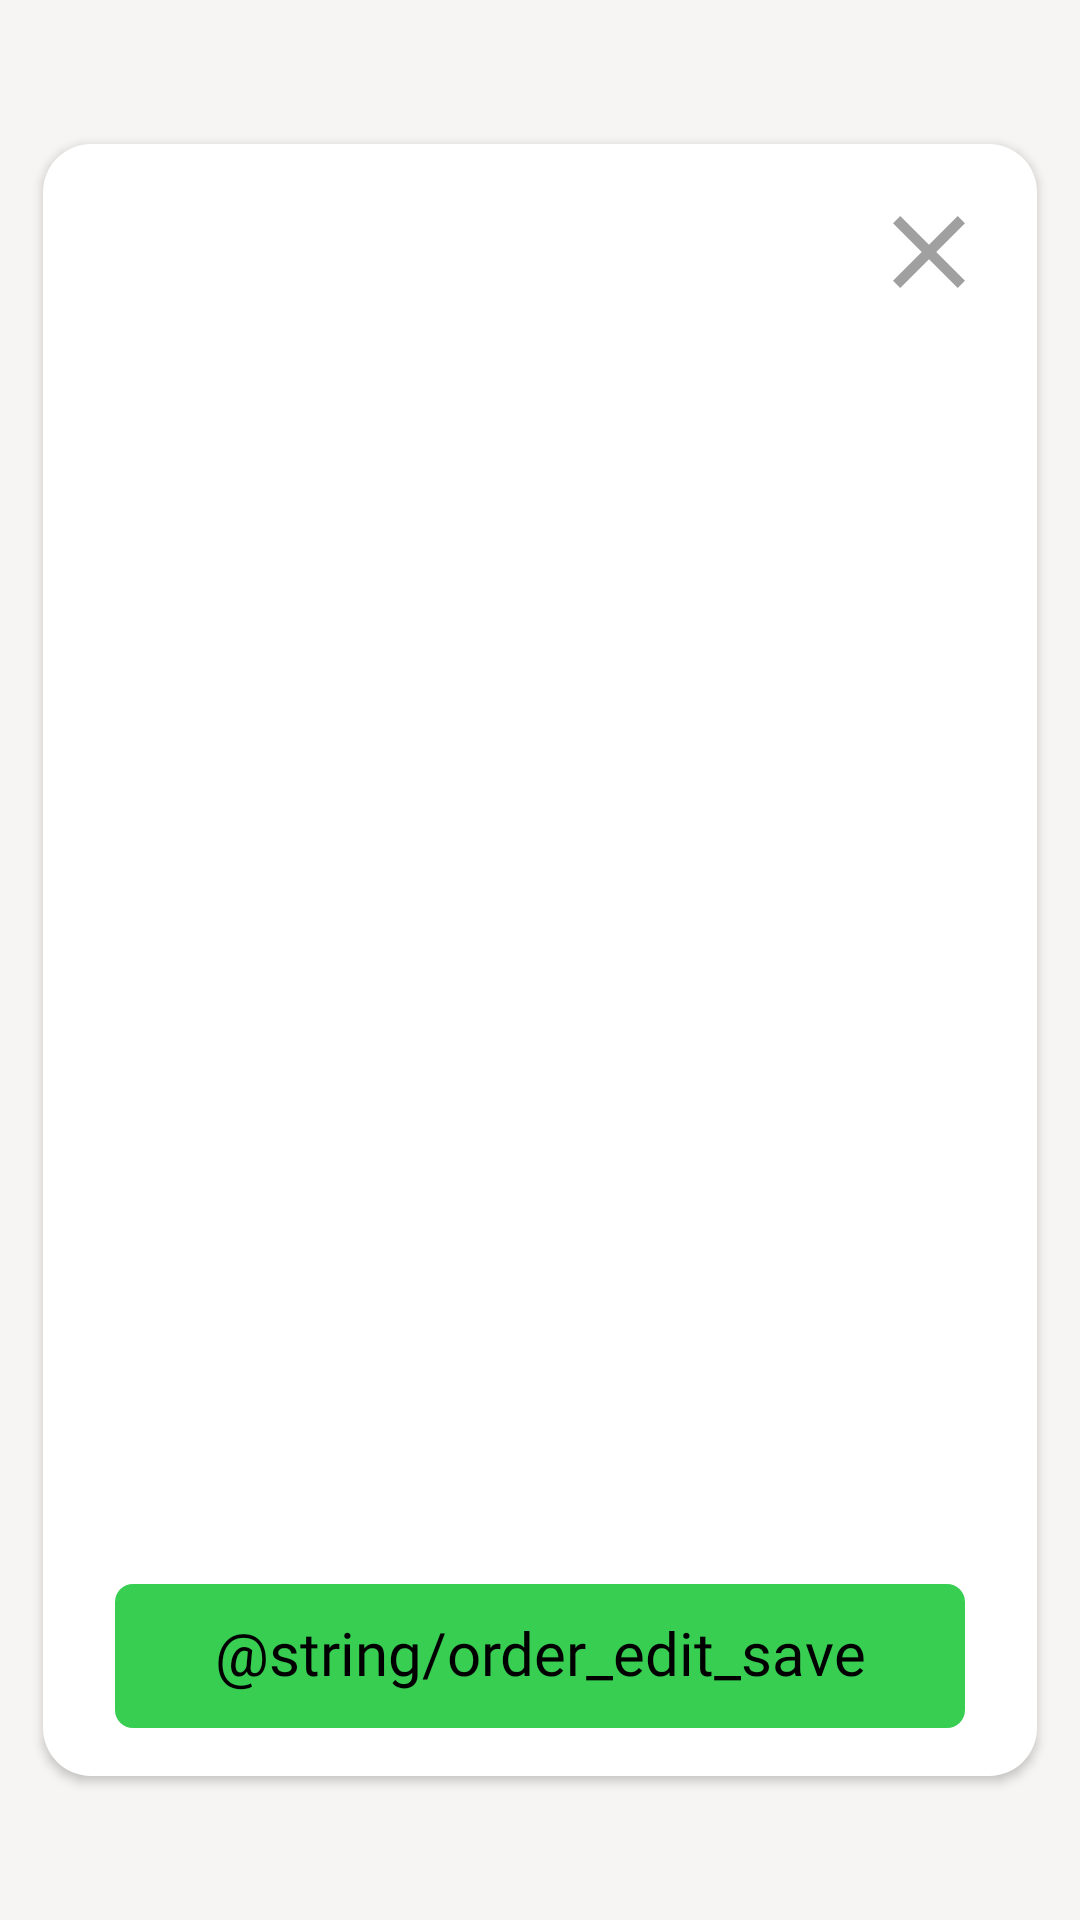

Named icons in this screenshot (1080px×1920px) and their centers, (x,y):
close: (929,252)
